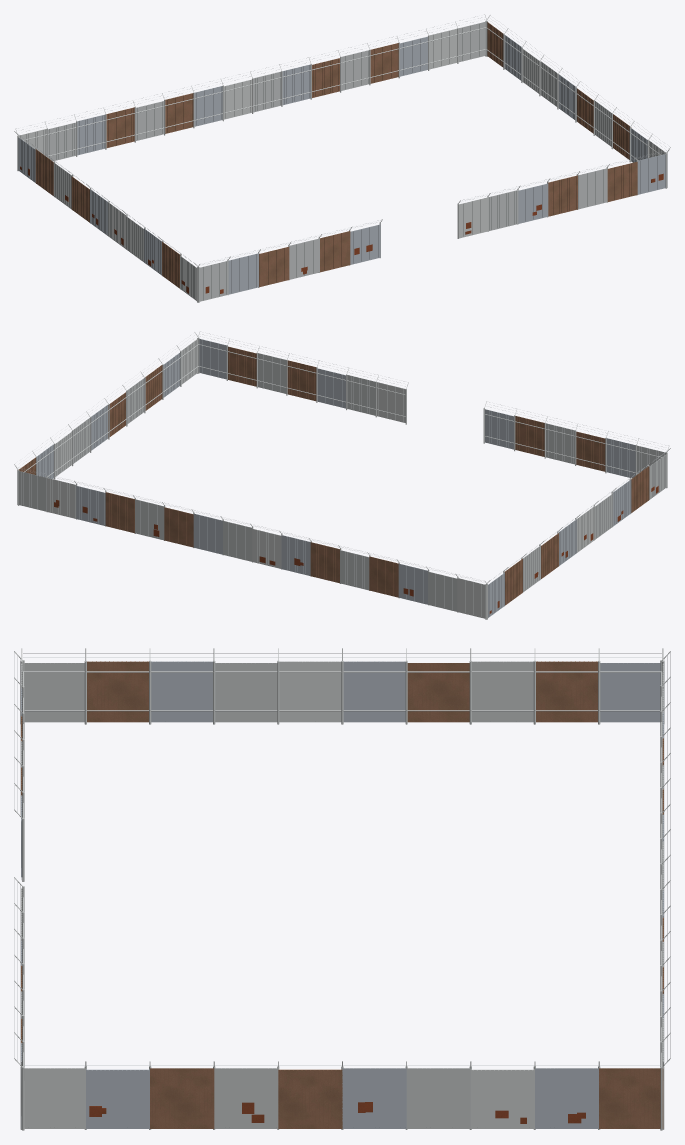
The model's file is fence.glb.
The picture shows the model from 3 angles, top to bottom: view 1: azimuth 30°, elevation 25°; view 2: azimuth 150°, elevation 25°; view 3: azimuth 270°, elevation 25°; orthographic projection. The views are drawn at different scales.
Parts seen in each view (by area): view 1: fence_sheet_a, fence_sheet_c, fence_sheet_b, fence_galv, fence_steel, fence_rust; view 2: fence_sheet_a, fence_sheet_c, fence_sheet_b, fence_galv, fence_steel, fence_rust; view 3: fence_sheet_c, fence_sheet_b, fence_sheet_a, fence_galv, fence_steel, fence_rust.
Boxes of the visible parts, x1,y1,x2,y2 form: fence_sheet_a: (48,22,611,301); fence_sheet_c: (35,22,637,288); fence_sheet_b: (18,35,667,294); fence_galv: (14,14,670,302); fence_steel: (16,16,669,264); fence_rust: (20,166,663,293); fence_sheet_a: (17,353,666,611); fence_sheet_c: (19,346,649,605); fence_sheet_b: (37,339,635,617); fence_galv: (14,331,670,619); fence_steel: (15,333,668,581); fence_rust: (54,486,658,613); fence_sheet_c: (21,661,663,1128); fence_sheet_b: (21,661,663,1128); fence_sheet_a: (21,661,663,1128); fence_galv: (14,648,670,1130); fence_steel: (14,652,670,1065); fence_rust: (89,1102,585,1123).
Bounding box in the file's own units: 36.58 × 2.98 × 24.58.
6 materials, 2 textured.
